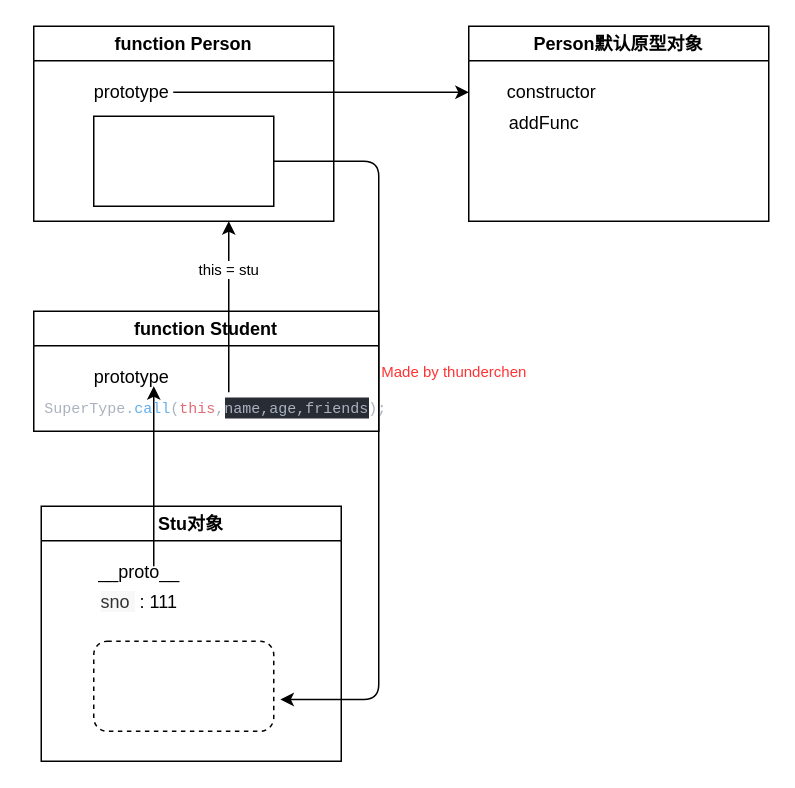
This 795x788 diagram has some shape labels left out. Each missing label, with the centre of its shape:
name： Thunder age:18 friends:["thunder"]: (x=183, y=685)
this .name = name this .friends=friends this .age=age: (x=183, y=160)
